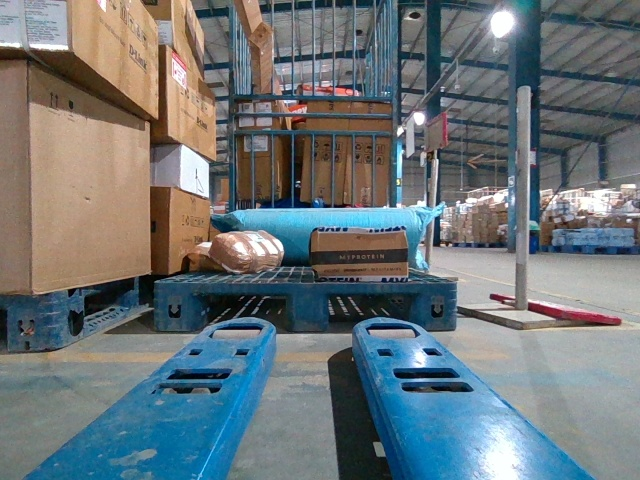block: (154, 281, 207, 331), (410, 284, 459, 330), (286, 284, 332, 332)
front: (148, 282, 460, 331)
hole pallet: (195, 292, 287, 332), (328, 294, 413, 329)
